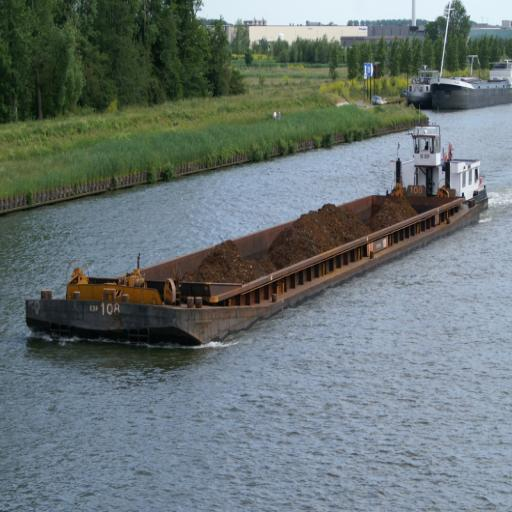tugboat: (385, 122, 492, 234)
